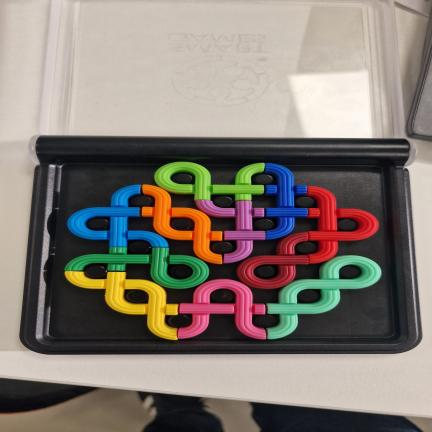A_Yellow: (65, 271, 178, 340)
B_SkyBlue: (68, 185, 168, 247)
C_DarkBlue: (265, 164, 308, 239)
D_Green: (65, 247, 209, 288)
E_Red: (307, 186, 378, 263)
F_Teal: (267, 256, 381, 339)
G_Pink: (178, 279, 266, 339)
H_Purple: (196, 200, 266, 263)
I_Orange: (142, 185, 222, 264)
J_DarkRed: (237, 233, 309, 289)
K_YellowGreen: (155, 162, 264, 201)
board: (21, 136, 420, 354)
hinge: (32, 138, 424, 164)
pin: (253, 314, 278, 328), (211, 289, 235, 303), (169, 265, 192, 279), (125, 289, 148, 303), (168, 314, 191, 328), (170, 218, 194, 231), (84, 264, 106, 278), (254, 265, 276, 279), (128, 241, 151, 254), (340, 265, 361, 279), (130, 195, 154, 207), (211, 241, 233, 254), (298, 290, 320, 303), (87, 218, 109, 230), (295, 196, 316, 208), (172, 173, 194, 184), (213, 196, 233, 208), (338, 219, 358, 231), (296, 242, 316, 254), (254, 219, 274, 230), (254, 174, 273, 185)
